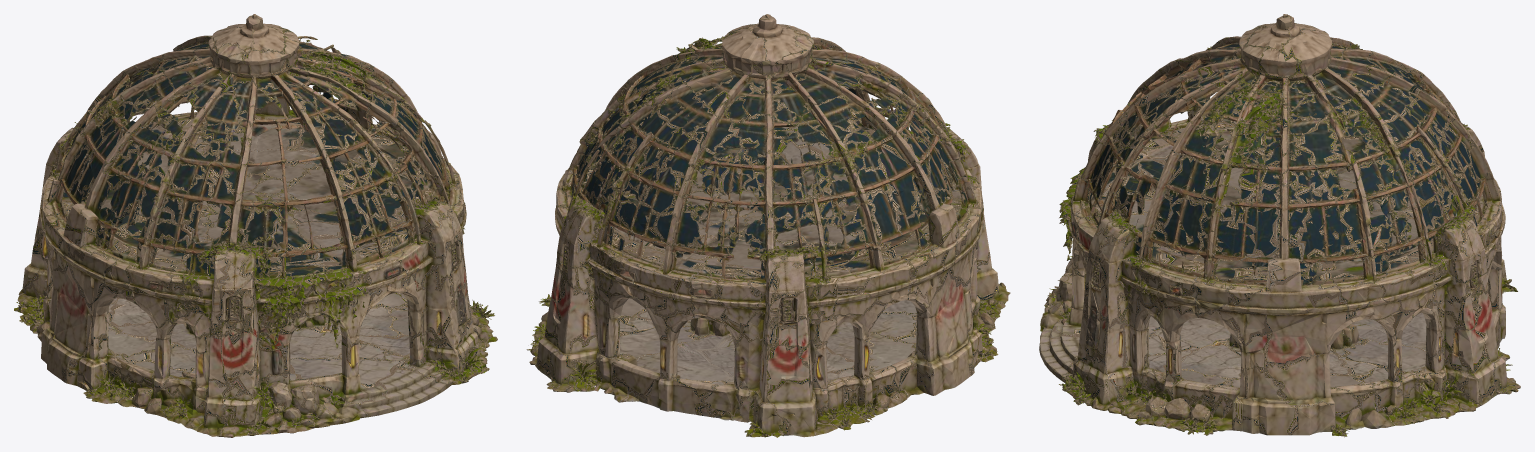
The model's file is greenhouse.glb.
3 views of the same model, side by side, from view 1: azimuth 30°, elevation 25°; view 2: azimuth 150°, elevation 25°; view 3: azimuth 270°, elevation 25° (orthographic). The views are drawn at different scales.
Visible parts, largest first — view 1: greenhouse; view 2: greenhouse; view 3: greenhouse.
Boxes of the visible parts, x1,y1,x2,y2 form: greenhouse: [14, 14, 497, 437]; greenhouse: [526, 14, 1010, 437]; greenhouse: [1039, 14, 1520, 437].
Bounding box in the file's own units: 1.86 × 1.41 × 1.9.
Materials: 1 (1 with a texture image).
